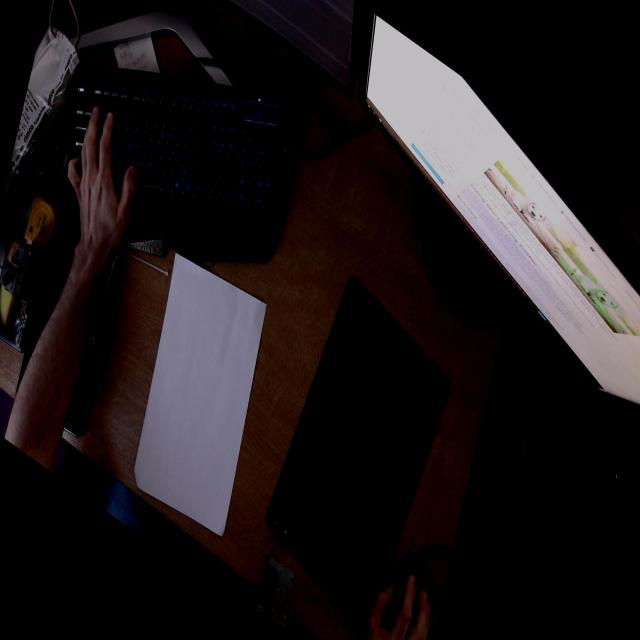keyboard-with-hands: (58, 67, 295, 270)
